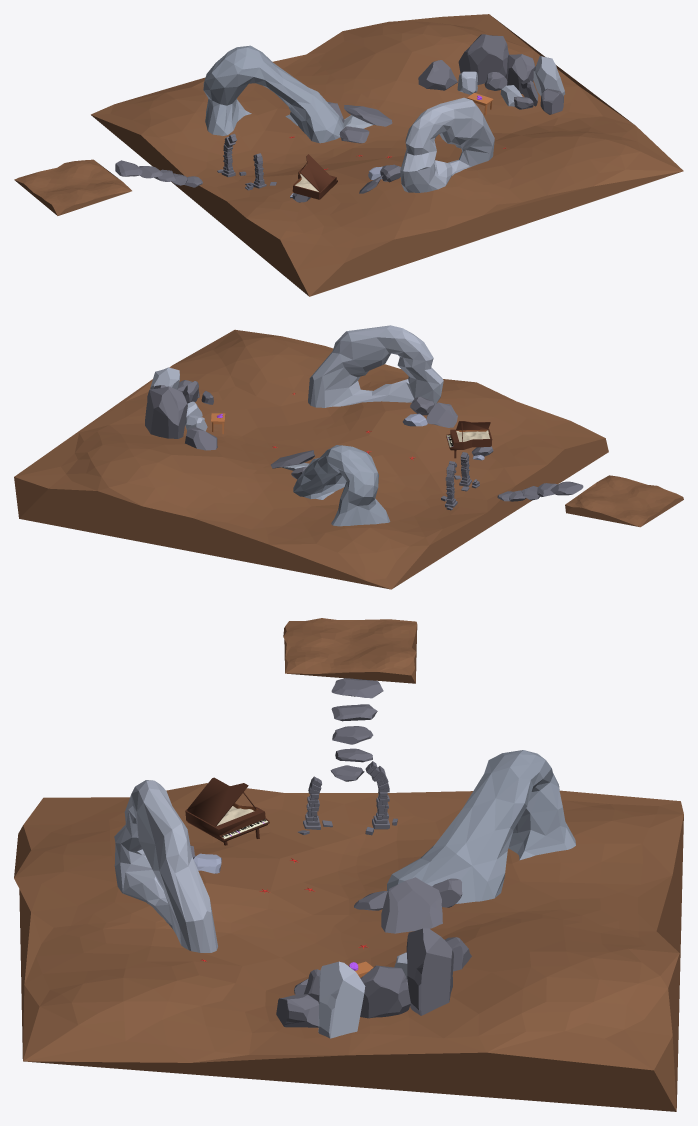
The model's file is 2021-07-22_Reef.fbx.
3 renders of one model, top to bottom at view 1: azimuth 30°, elevation 25°; view 2: azimuth 150°, elevation 25°; view 3: azimuth 270°, elevation 25°, orthographic. The views are drawn at different scales.
Visible parts, largest first — view 1: Ground, Reef 1, Reef 2, Island - TEMP, Rock 1.018, Piano, Gate, Rock 1.009, Rock 1.015, Rock 1.011, Rock 1.020, Rock 1; view 2: Ground, Reef 2, Reef 1, Island - TEMP, Rock 1.018, Piano, Gate, Rock-Step-1.001, Rock 1.015, Rock 1.009, Rock 1.020; view 3: Ground, Reef 1, Reef 2, Island - TEMP, Rock 1.018, Piano, Rock 1.009, Rock 1.020, Rock 1.011, Gate, Rock 1, Rock-Step-1.
Boxes of the visible parts, left/top/right/bottom form: Ground: left=91, top=14, right=683, bottom=296; Reef 1: left=203, top=45, right=343, bottom=143; Reef 2: left=400, top=97, right=494, bottom=192; Island - TEMP: left=14, top=159, right=131, bottom=215; Rock 1.018: left=458, top=34, right=508, bottom=84; Piano: left=292, top=154, right=337, bottom=199; Gate: left=217, top=133, right=276, bottom=190; Rock 1.009: left=533, top=56, right=565, bottom=95; Rock 1.015: left=418, top=60, right=457, bottom=90; Rock 1.011: left=506, top=54, right=535, bottom=93; Rock 1.020: left=344, top=105, right=392, bottom=126; Rock 1: left=540, top=88, right=563, bottom=114; Ground: left=14, top=329, right=608, bottom=589; Reef 2: left=308, top=325, right=443, bottom=407; Reef 1: left=293, top=445, right=390, bottom=526; Island - TEMP: left=565, top=475, right=683, bottom=527; Rock 1.018: left=145, top=386, right=187, bottom=438; Piano: left=446, top=421, right=492, bottom=458; Gate: left=441, top=452, right=479, bottom=510; Rock-Step-1.001: left=426, top=402, right=457, bottom=427; Rock 1.015: left=185, top=427, right=217, bottom=450; Rock 1.009: left=150, top=367, right=179, bottom=389; Rock 1.020: left=271, top=450, right=314, bottom=468; Ground: left=14, top=783, right=683, bottom=1111; Reef 1: left=387, top=750, right=575, bottom=903; Reef 2: left=114, top=780, right=217, bottom=952; Island - TEMP: left=283, top=618, right=417, bottom=683; Rock 1.018: left=406, top=928, right=453, bottom=1015; Piano: left=185, top=777, right=269, bottom=845; Rock 1.009: left=318, top=961, right=365, bottom=1038; Rock 1.020: left=381, top=877, right=442, bottom=933; Rock 1.011: left=360, top=965, right=410, bottom=1018; Gate: left=297, top=761, right=397, bottom=835; Rock 1: left=276, top=994, right=318, bottom=1027; Rock-Step-1: left=331, top=678, right=383, bottom=698.
Bounding box in the file's own units: 7561 × 1682 × 5234.
